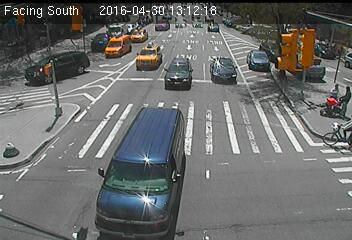neg: (156, 85, 207, 154), (112, 165, 148, 212), (74, 189, 105, 230), (311, 19, 339, 57), (222, 57, 247, 90), (92, 5, 116, 37), (224, 9, 245, 37), (254, 29, 273, 54)
